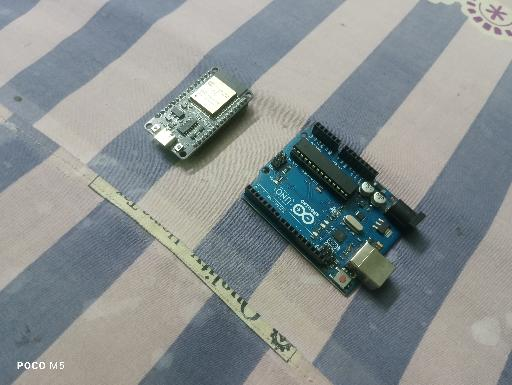Arduino: (241, 121, 427, 298)
Esp32: (144, 66, 254, 161)
